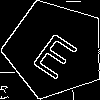E: (30, 24, 86, 81)
